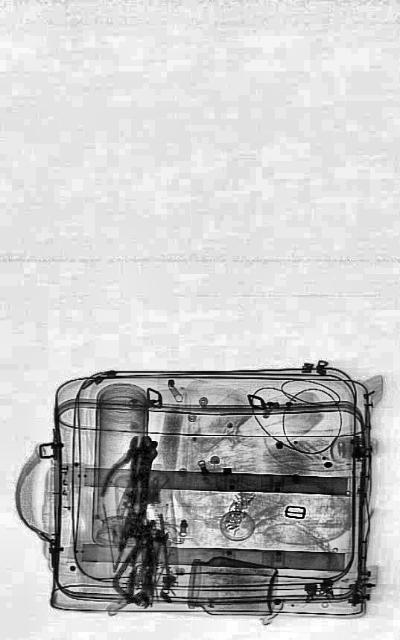Pliers: (96, 426, 156, 526)
